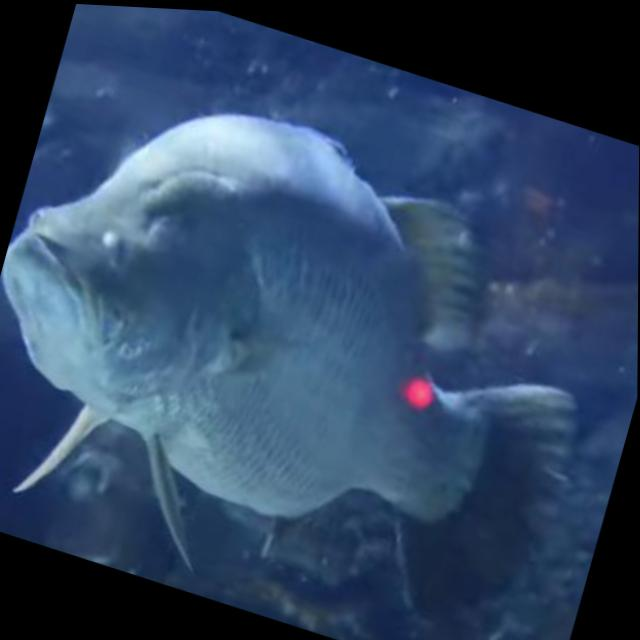Seabass: (0, 41, 637, 640)
